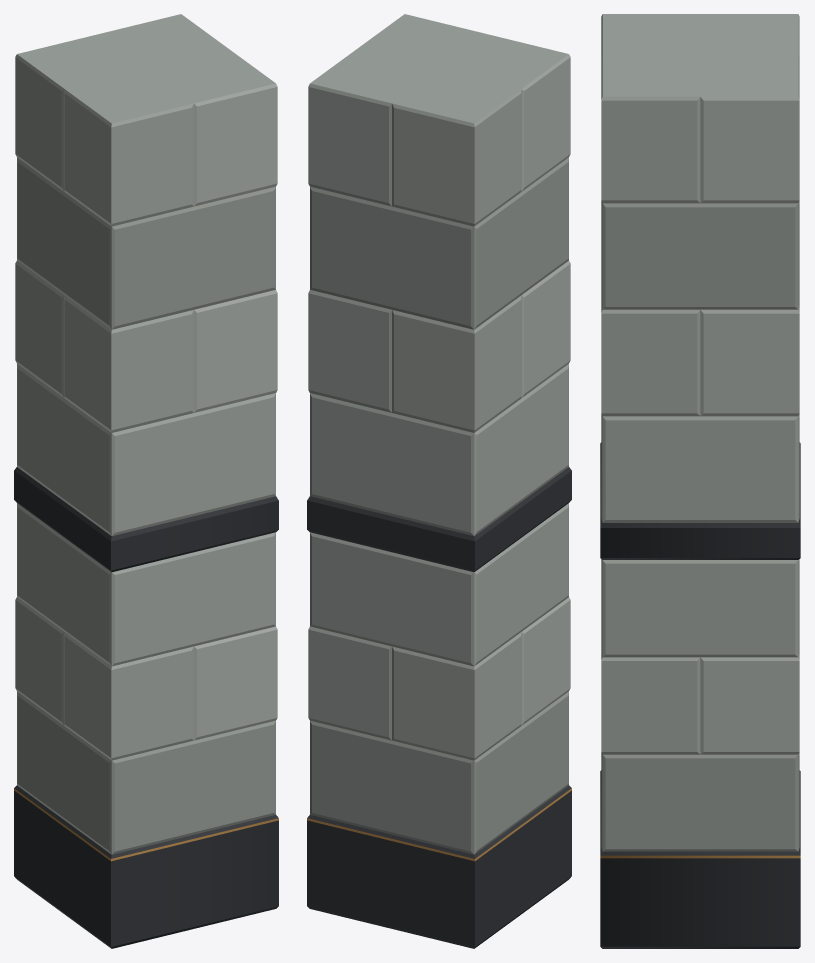
The model's file is column.fbx.
3 renders of one model, left to right at view 1: azimuth 30°, elevation 25°; view 2: azimuth 150°, elevation 25°; view 3: azimuth 270°, elevation 25°, orthographic. The views are drawn at different scales.
Visible parts, largest first — view 1: column; view 2: column; view 3: column.
Part boxes in pixels (x1,y1,x2,y2): column: [14, 14, 278, 948]; column: [307, 14, 571, 948]; column: [600, 14, 800, 948].
Bounding box in the file's own units: 101 × 475 × 101.
Materials: 1 (1 with a texture image).
